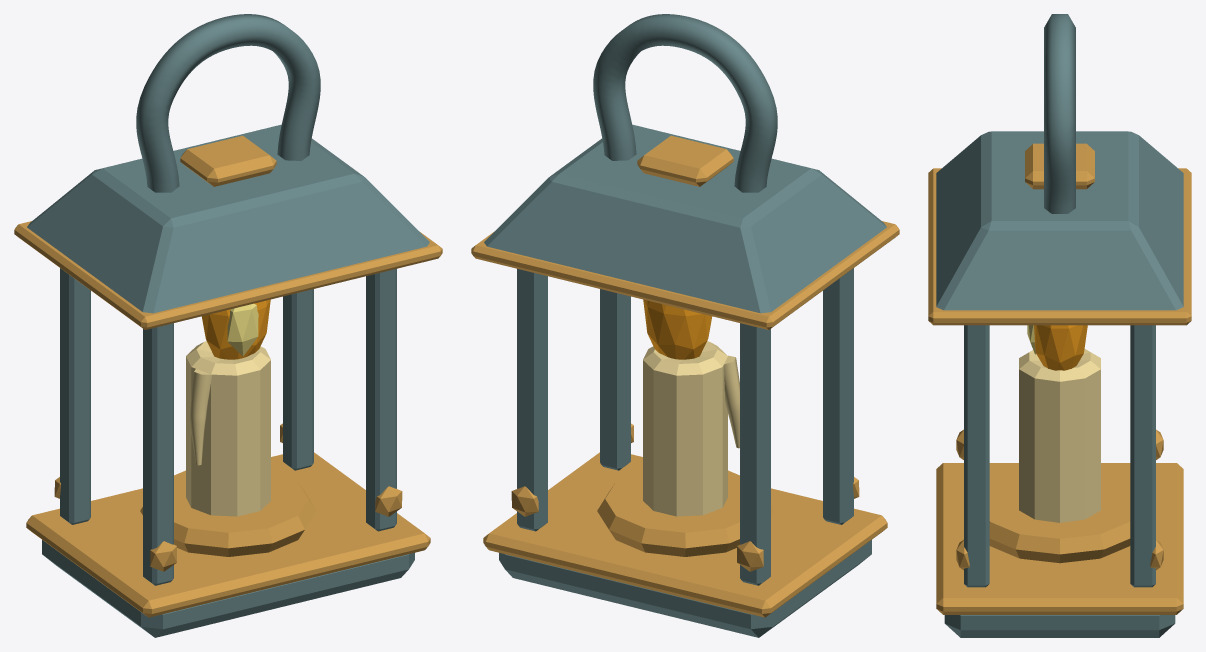
File: lantern.obj
The picture shows the model from 3 angles, left to right: view 1: azimuth 30°, elevation 25°; view 2: azimuth 150°, elevation 25°; view 3: azimuth 270°, elevation 25°; orthographic projection.
Parts seen in each view (by area): view 1: C_HippedRoof.001_lantern_aged_frame, A_BaseBrassRim.001_lantern_brass_edges, E_Candle.001_lantern_ivory_wax, D_CarryHandle.001_lantern_aged_frame, A_Base.001_lantern_aged_frame, B_Post_-1_1.001_lantern_aged_frame, B_Post_1_-1.001_lantern_aged_frame, B_Post_-1_-1.001_lantern_aged_frame, E_CandleCup.001_lantern_brass_edges, C_UpperRim.001_lantern_brass_edges, B_Post_1_1.001_lantern_aged_frame, C_VentCap.001_lantern_brass_edges (+5 smaller); view 2: C_HippedRoof.001_lantern_aged_frame, A_BaseBrassRim.001_lantern_brass_edges, E_Candle.001_lantern_ivory_wax, D_CarryHandle.001_lantern_aged_frame, A_Base.001_lantern_aged_frame, B_Post_-1_-1.001_lantern_aged_frame, B_Post_1_1.001_lantern_aged_frame, B_Post_-1_1.001_lantern_aged_frame, E_CandleCup.001_lantern_brass_edges, C_UpperRim.001_lantern_brass_edges, B_Post_1_-1.001_lantern_aged_frame, C_VentCap.001_lantern_brass_edges (+4 smaller); view 3: C_HippedRoof.001_lantern_aged_frame, A_BaseBrassRim.001_lantern_brass_edges, E_Candle.001_lantern_ivory_wax, E_CandleCup.001_lantern_brass_edges, C_UpperRim.001_lantern_brass_edges, B_Post_1_-1.001_lantern_aged_frame, B_Post_1_1.001_lantern_aged_frame, D_CarryHandle.001_lantern_aged_frame, A_Base.001_lantern_aged_frame, F_Flame.001_lantern_amber_flame, C_VentCap.001_lantern_brass_edges.
Boxes of the visible parts, left/top/right/bottom form: C_HippedRoof.001_lantern_aged_frame: left=27, top=124, right=429, bottom=313; A_BaseBrassRim.001_lantern_brass_edges: left=26, top=452, right=430, bottom=617; E_Candle.001_lantern_ivory_wax: left=186, top=341, right=270, bottom=516; D_CarryHandle.001_lantern_aged_frame: left=136, top=14, right=320, bottom=192; A_Base.001_lantern_aged_frame: left=42, top=540, right=414, bottom=637; B_Post_-1_1.001_lantern_aged_frame: left=60, top=268, right=90, bottom=524; B_Post_1_-1.001_lantern_aged_frame: left=366, top=269, right=396, bottom=531; B_Post_-1_-1.001_lantern_aged_frame: left=143, top=323, right=173, bottom=585; E_CandleCup.001_lantern_brass_edges: left=140, top=470, right=316, bottom=556; C_UpperRim.001_lantern_brass_edges: left=14, top=221, right=442, bottom=329; B_Post_1_1.001_lantern_aged_frame: left=283, top=289, right=313, bottom=470; C_VentCap.001_lantern_brass_edges: left=180, top=135, right=276, bottom=186; C_HippedRoof.001_lantern_aged_frame: left=484, top=124, right=886, bottom=313; A_BaseBrassRim.001_lantern_brass_edges: left=483, top=452, right=887, bottom=617; E_Candle.001_lantern_ivory_wax: left=643, top=341, right=727, bottom=516; D_CarryHandle.001_lantern_aged_frame: left=593, top=14, right=777, bottom=192; A_Base.001_lantern_aged_frame: left=499, top=540, right=871, bottom=637; B_Post_-1_-1.001_lantern_aged_frame: left=823, top=268, right=853, bottom=524; B_Post_1_1.001_lantern_aged_frame: left=517, top=269, right=547, bottom=531; B_Post_-1_1.001_lantern_aged_frame: left=740, top=323, right=770, bottom=585; E_CandleCup.001_lantern_brass_edges: left=597, top=470, right=773, bottom=556; C_UpperRim.001_lantern_brass_edges: left=471, top=221, right=899, bottom=329; B_Post_1_-1.001_lantern_aged_frame: left=600, top=289, right=630, bottom=470; C_VentCap.001_lantern_brass_edges: left=637, top=135, right=733, bottom=186; C_HippedRoof.001_lantern_aged_frame: left=936, top=131, right=1183, bottom=310; A_BaseBrassRim.001_lantern_brass_edges: left=936, top=463, right=1183, bottom=614; E_Candle.001_lantern_ivory_wax: left=1019, top=349, right=1100, bottom=522; E_CandleCup.001_lantern_brass_edges: left=989, top=476, right=1130, bottom=563; C_UpperRim.001_lantern_brass_edges: left=928, top=168, right=1191, bottom=325; B_Post_1_-1.001_lantern_aged_frame: left=964, top=325, right=989, bottom=587; B_Post_1_1.001_lantern_aged_frame: left=1130, top=325, right=1155, bottom=587; D_CarryHandle.001_lantern_aged_frame: left=1044, top=14, right=1075, bottom=213; A_Base.001_lantern_aged_frame: left=944, top=615, right=1175, bottom=637; F_Flame.001_lantern_amber_flame: left=1034, top=325, right=1087, bottom=370; C_VentCap.001_lantern_brass_edges: left=1025, top=143, right=1094, bottom=189.
Size of the model in its own units: 1.3 by 2.27 by 0.98.
